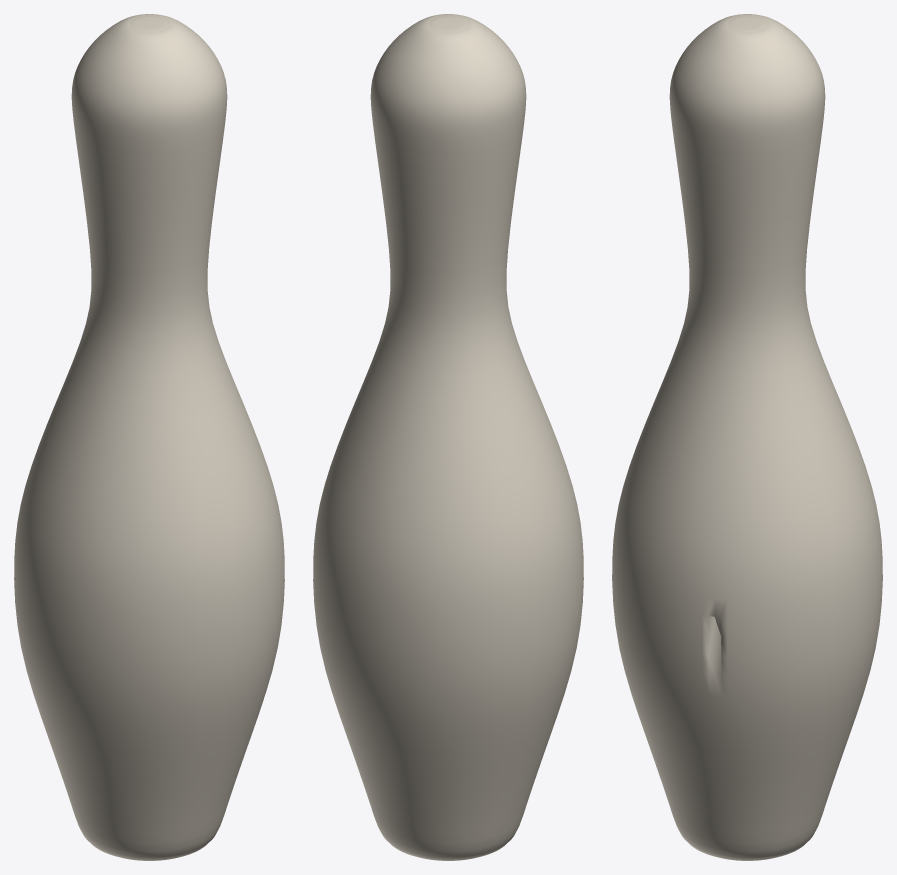
The model's file is pino.fbx.
The picture shows the model from 3 angles, left to right: view 1: azimuth 30°, elevation 25°; view 2: azimuth 150°, elevation 25°; view 3: azimuth 270°, elevation 25°; orthographic projection.
Parts seen in each view (by area): view 1: Cilindro; view 2: Cilindro; view 3: Cilindro.
Part boxes in pixels (x1,y1,x2,y2): Cilindro: [14, 14, 284, 860]; Cilindro: [313, 14, 583, 860]; Cilindro: [612, 14, 882, 860].
Size of the model in its own units: 127 by 423 by 127.
